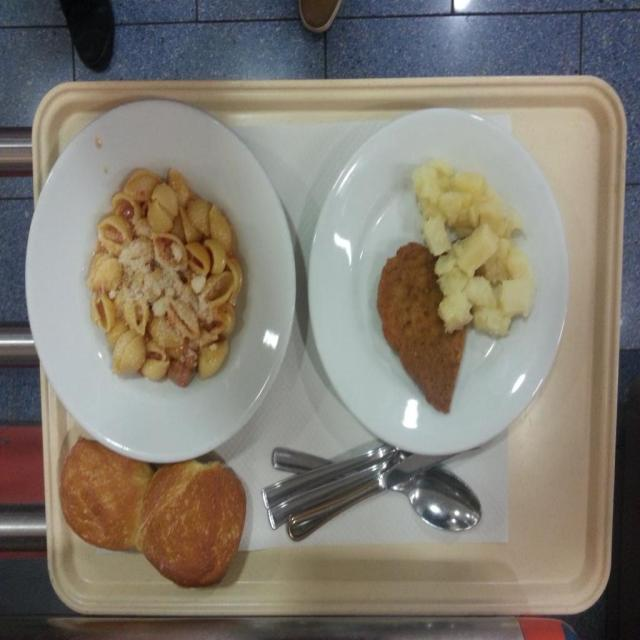plate: (24, 94, 296, 452), (304, 106, 571, 460), (141, 454, 250, 591), (56, 434, 148, 552)
